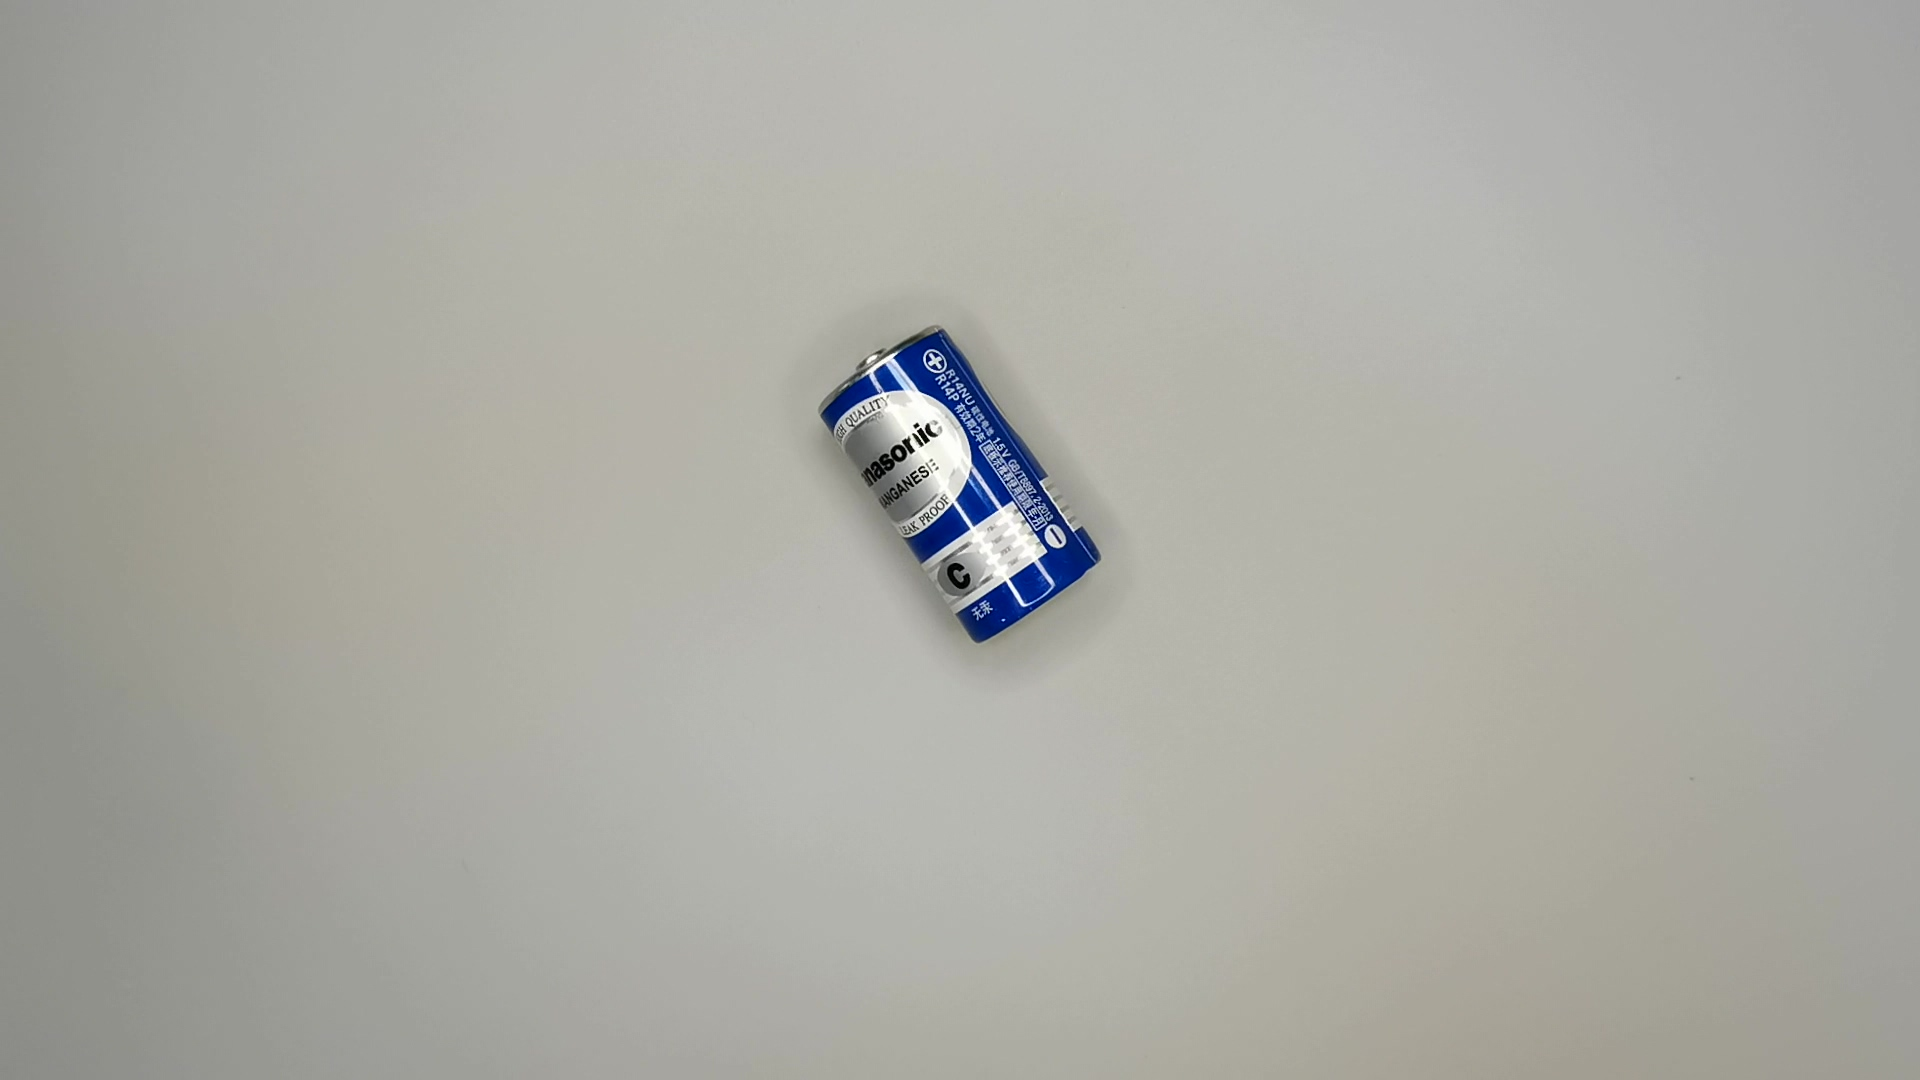battery: (811, 316, 1112, 654)
